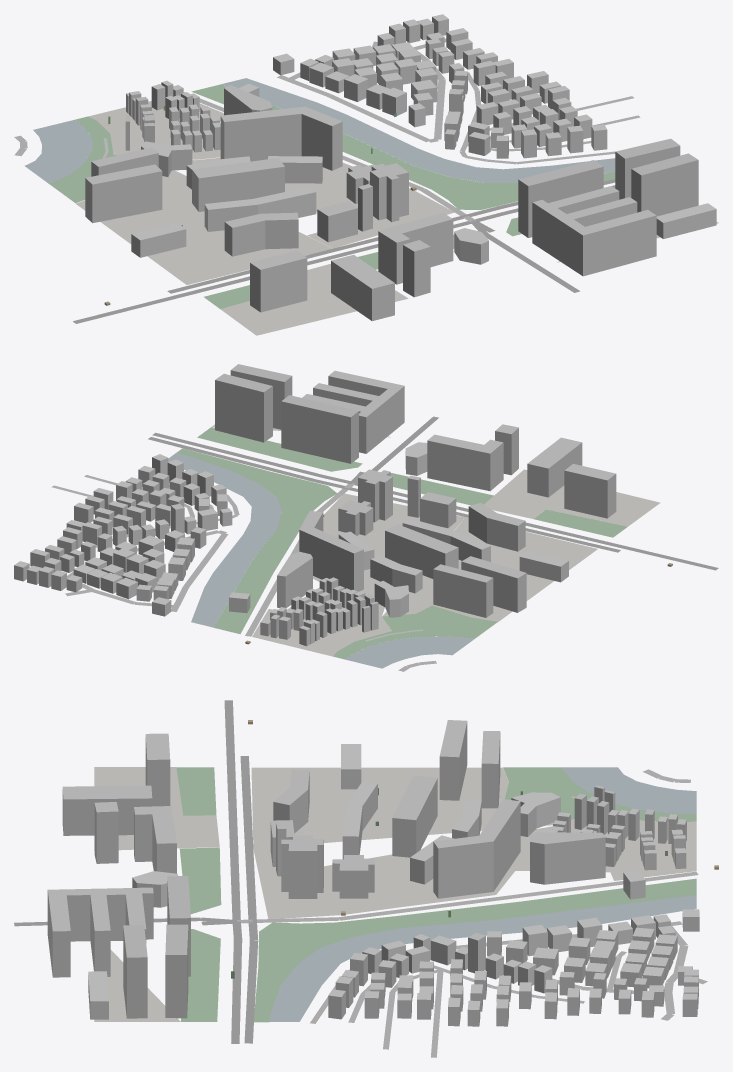
The picture shows the model from 3 angles, top to bottom: view 1: azimuth 30°, elevation 25°; view 2: azimuth 150°, elevation 25°; view 3: azimuth 270°, elevation 25°; orthographic projection. The views are drawn at different scales.
Bounding box in the file's own units: 703 × 58.37 × 585.
